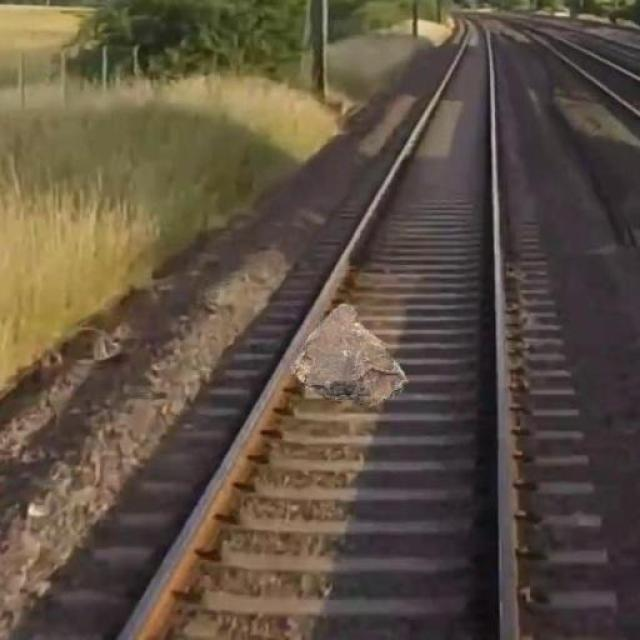Stone: (285, 303, 417, 410)
